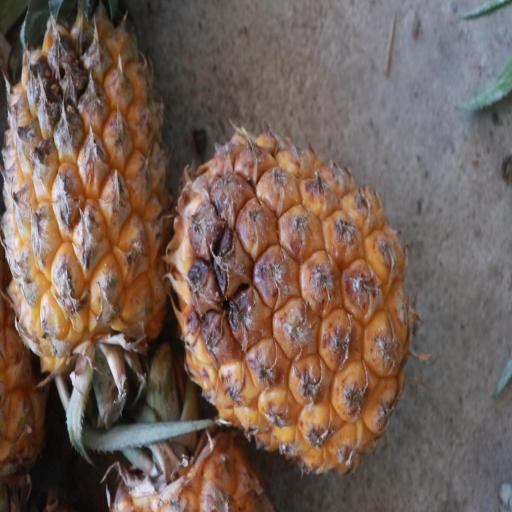Pineapple - v8 v1: (167, 122, 416, 476), (0, 2, 177, 395)
